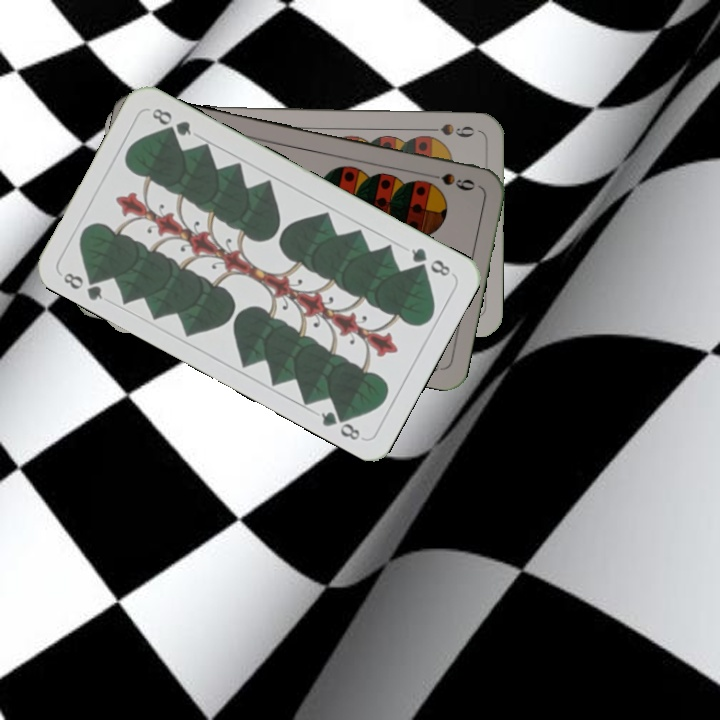G8: (407, 243, 453, 279), (59, 268, 105, 303)
S9: (421, 169, 477, 194), (420, 119, 477, 140)
